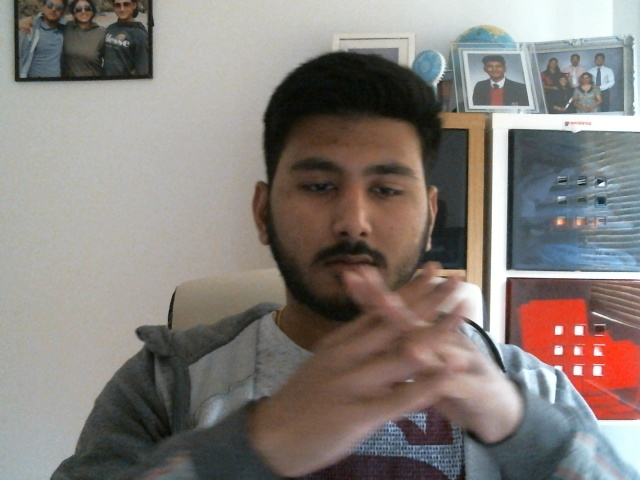how: (313, 259, 482, 404)
